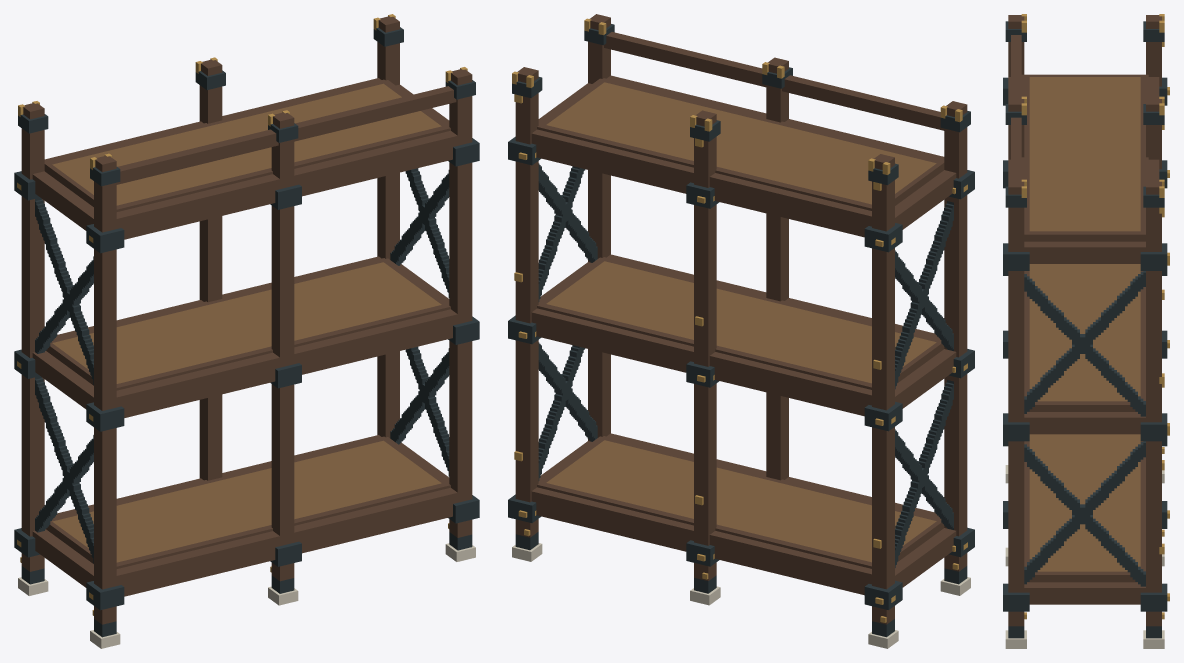
The picture shows the model from 3 angles, left to right: view 1: azimuth 30°, elevation 25°; view 2: azimuth 150°, elevation 25°; view 3: azimuth 270°, elevation 25°; orthographic projection. The views are drawn at different scales.
Visible parts, largest first — view 1: 仓储货架梁柱; view 2: 仓储货架梁柱; view 3: 仓储货架梁柱.
Part boxes in pixels (left/top/right/bottom): 仓储货架梁柱: left=14, top=14, right=479, bottom=648; 仓储货架梁柱: left=508, top=14, right=974, bottom=648; 仓储货架梁柱: left=1003, top=14, right=1169, bottom=648.
Bounding box in the file's own units: 1.58 × 1.92 × 0.63.
Materials: 5 (5 with a texture image).
